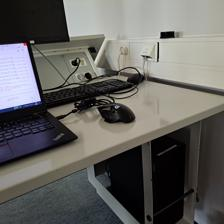mouse: (96, 101, 136, 123)
